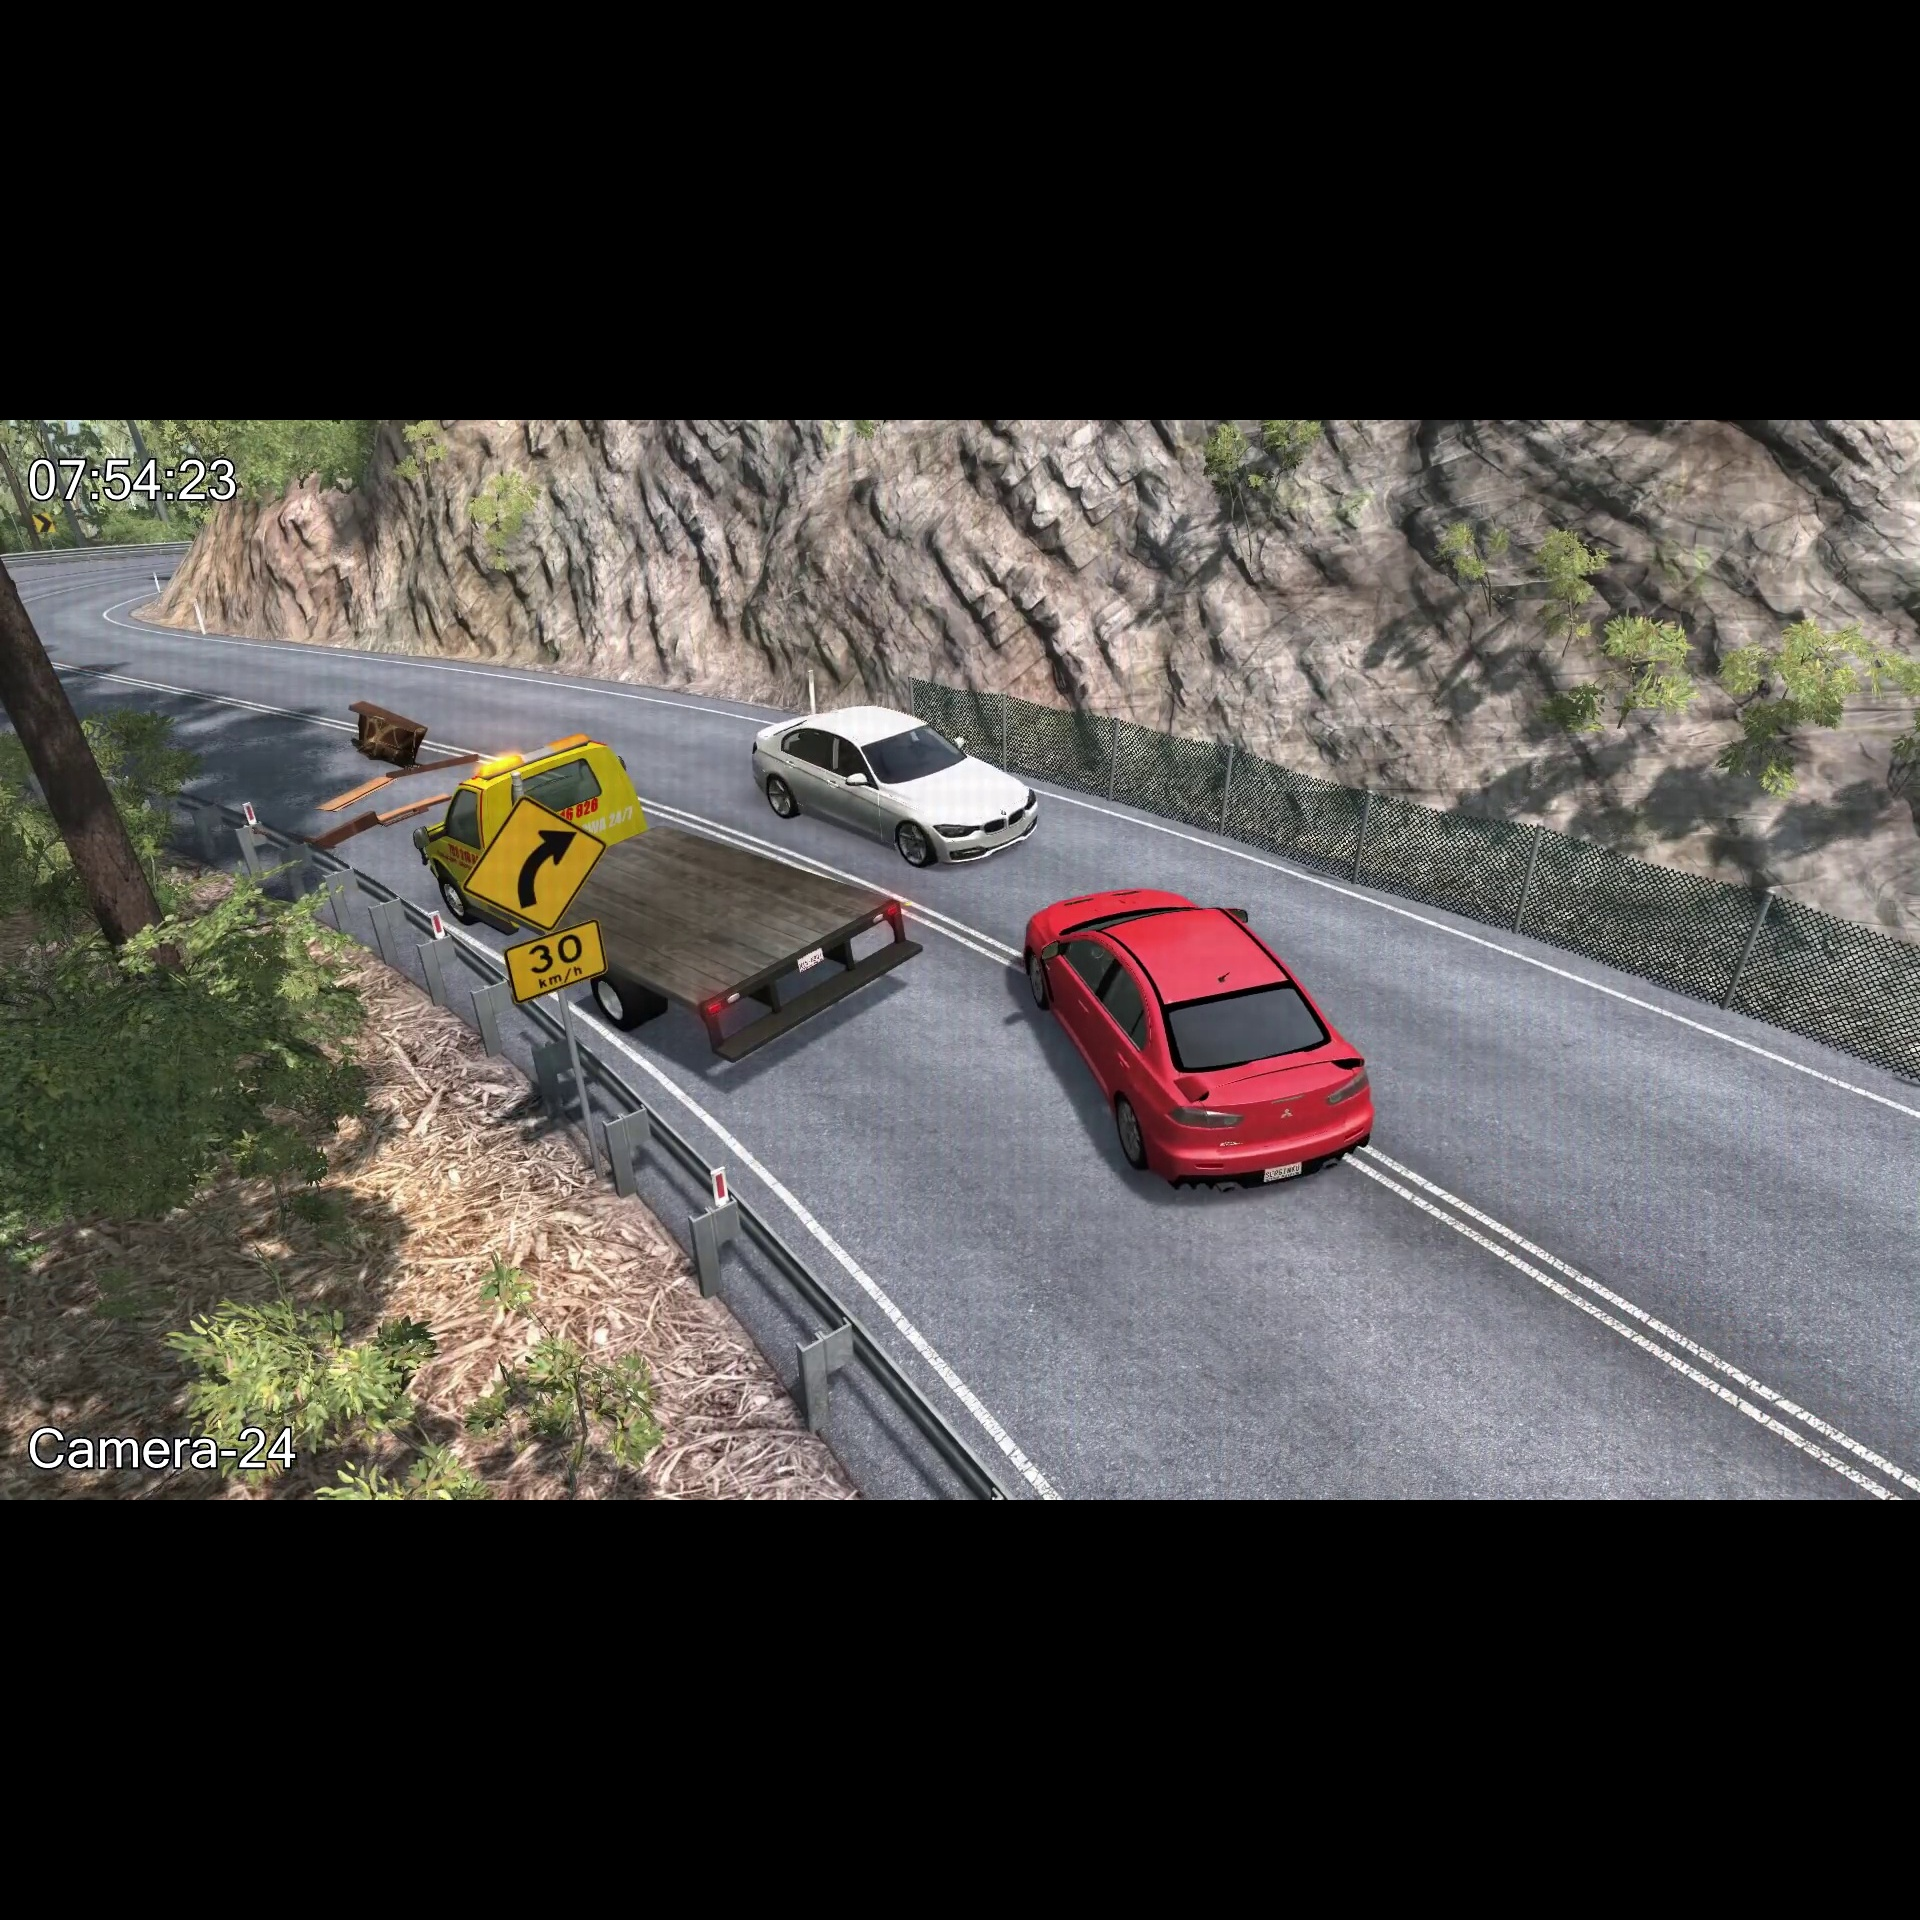vehicle: (404, 730, 928, 1064), (1009, 870, 1380, 1206), (742, 700, 1043, 877)
